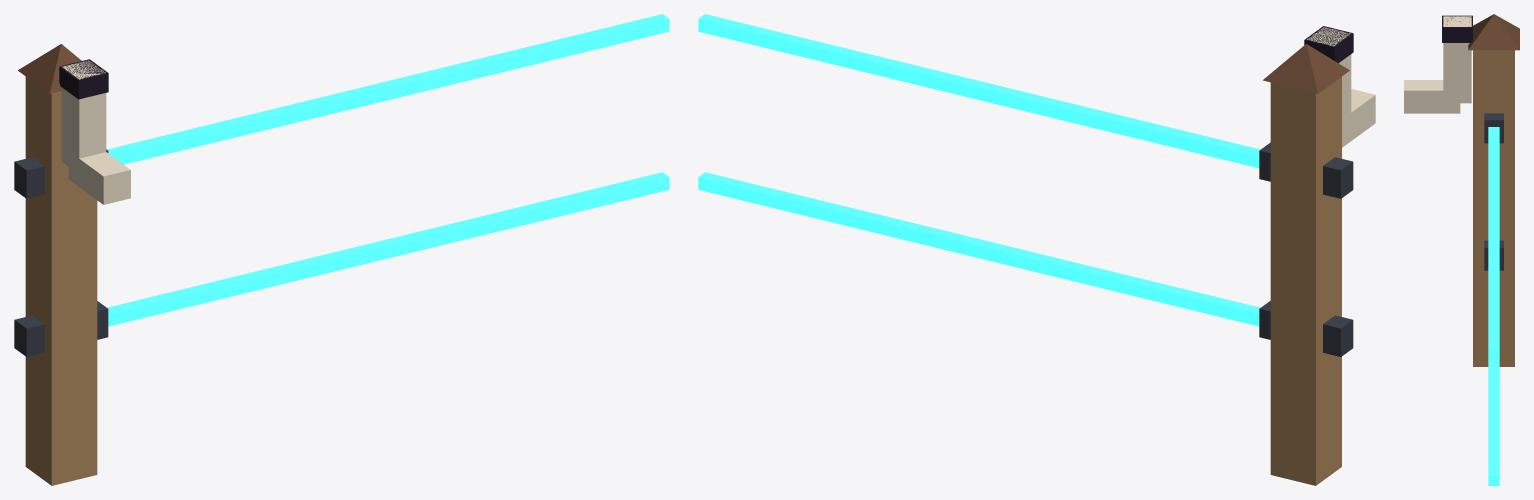
File: Prop_Fence_Laser.fbx
3 renders of one model, left to right at view 1: azimuth 30°, elevation 25°; view 2: azimuth 150°, elevation 25°; view 3: azimuth 270°, elevation 25°, orthographic. The views are drawn at different scales.
Parts seen in each view (by area): view 1: Prop_Fence_Laser_Body, Prop_Fence_Laser_Rails; view 2: Prop_Fence_Laser_Body, Prop_Fence_Laser_Rails; view 3: Prop_Fence_Laser_Body, Prop_Fence_Laser_Rails.
Part boxes in pixels (left/top/right/bottom): Prop_Fence_Laser_Body: left=14, top=44, right=130, bottom=485; Prop_Fence_Laser_Rails: left=107, top=14, right=669, bottom=326; Prop_Fence_Laser_Body: left=1259, top=26, right=1375, bottom=485; Prop_Fence_Laser_Rails: left=698, top=14, right=1260, bottom=326; Prop_Fence_Laser_Body: left=1404, top=14, right=1519, bottom=366; Prop_Fence_Laser_Rails: left=1488, top=127, right=1499, bottom=485.
Size of the model in its own units: 2.13 by 1.35 by 0.4119.
